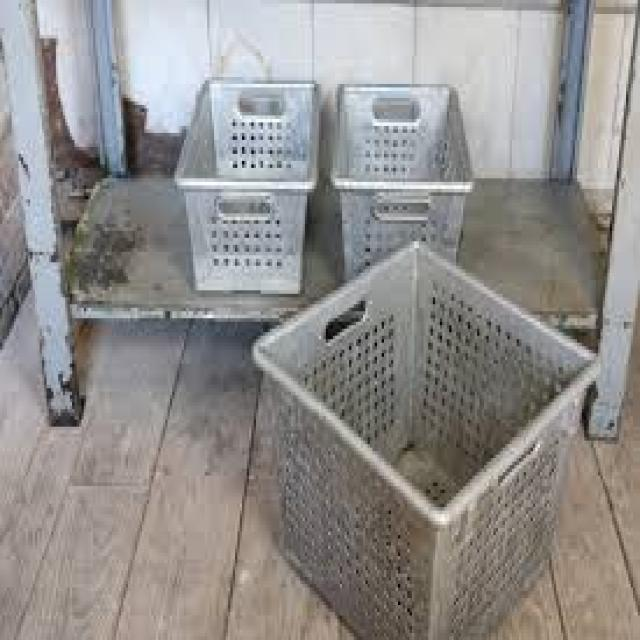basket: (173, 80, 322, 297), (333, 84, 475, 278)
